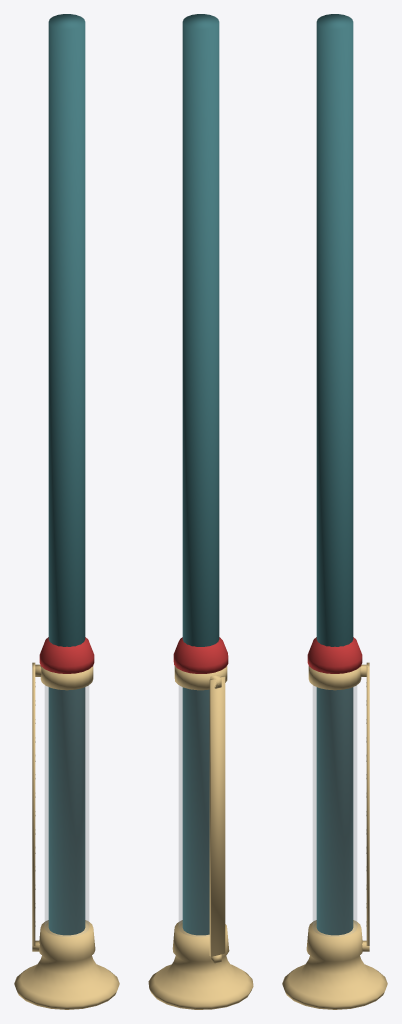
File: flood_glass.glb
3 views of the same model, side by side, from view 1: azimuth 90°, elevation 25°; view 2: azimuth 210°, elevation 25°; view 3: azimuth 270°, elevation 25° (orthographic).
Parts seen in each view (by area): view 1: flood_glass_water, flood_glass_tube, flood_glass_fittings; view 2: flood_glass_water, flood_glass_fittings, flood_glass_tube; view 3: flood_glass_water, flood_glass_tube, flood_glass_fittings.
Part boxes in pixels (x1,y1,x2,y2): flood_glass_water: [48, 14, 85, 935]; flood_glass_tube: [45, 685, 88, 936]; flood_glass_fittings: [14, 637, 119, 1009]; flood_glass_water: [182, 14, 219, 935]; flood_glass_fittings: [148, 637, 253, 1009]; flood_glass_tube: [179, 685, 208, 936]; flood_glass_water: [316, 14, 353, 935]; flood_glass_tube: [313, 685, 356, 936]; flood_glass_fittings: [282, 637, 387, 1009].
Size of the model in its own units: 0.104 by 1.05 by 0.104.
